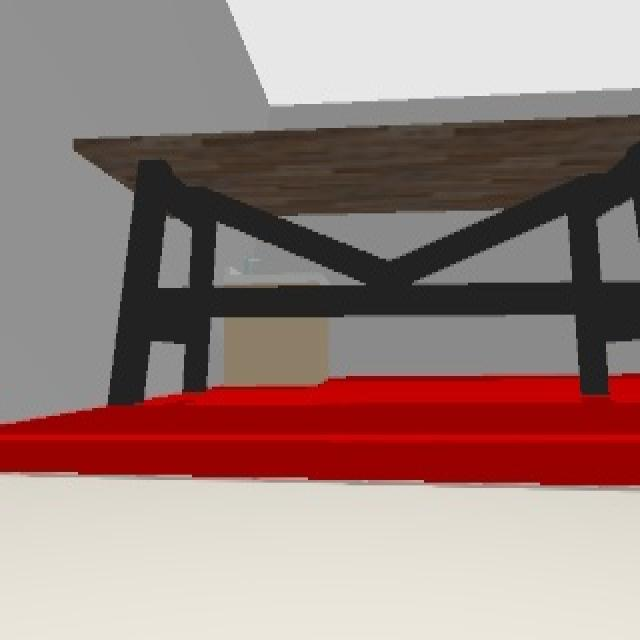dining: (70, 117, 640, 406)
